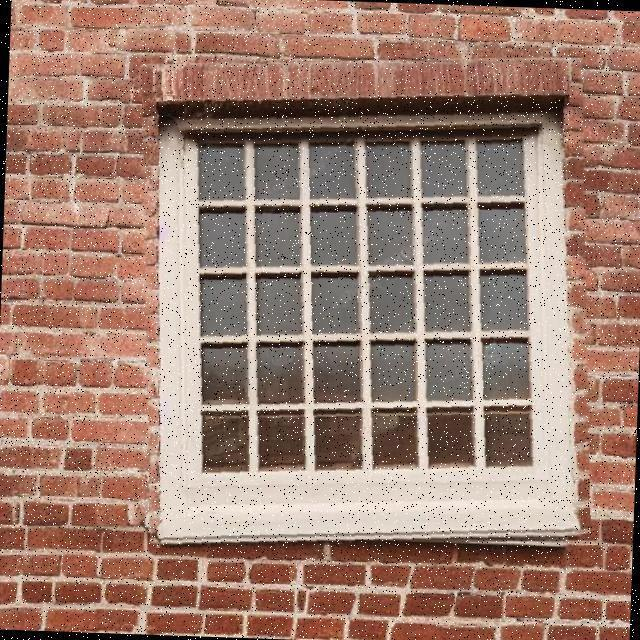window: (158, 112, 571, 508)
